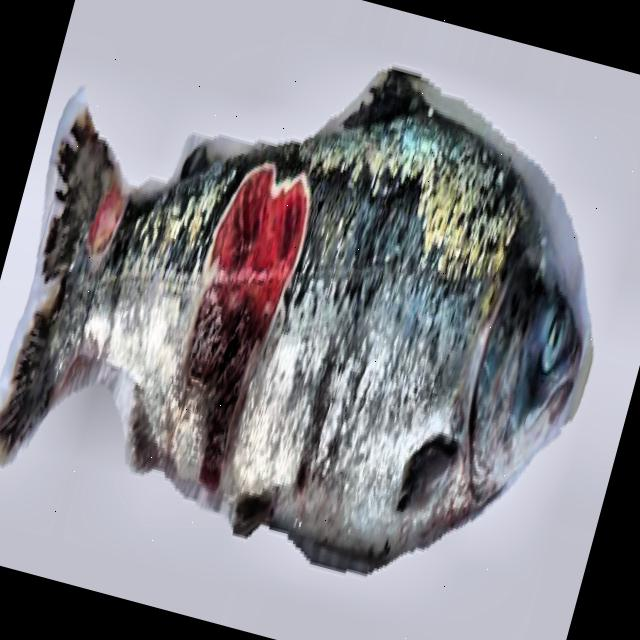wound: (183, 163, 309, 488), (85, 174, 126, 255)
